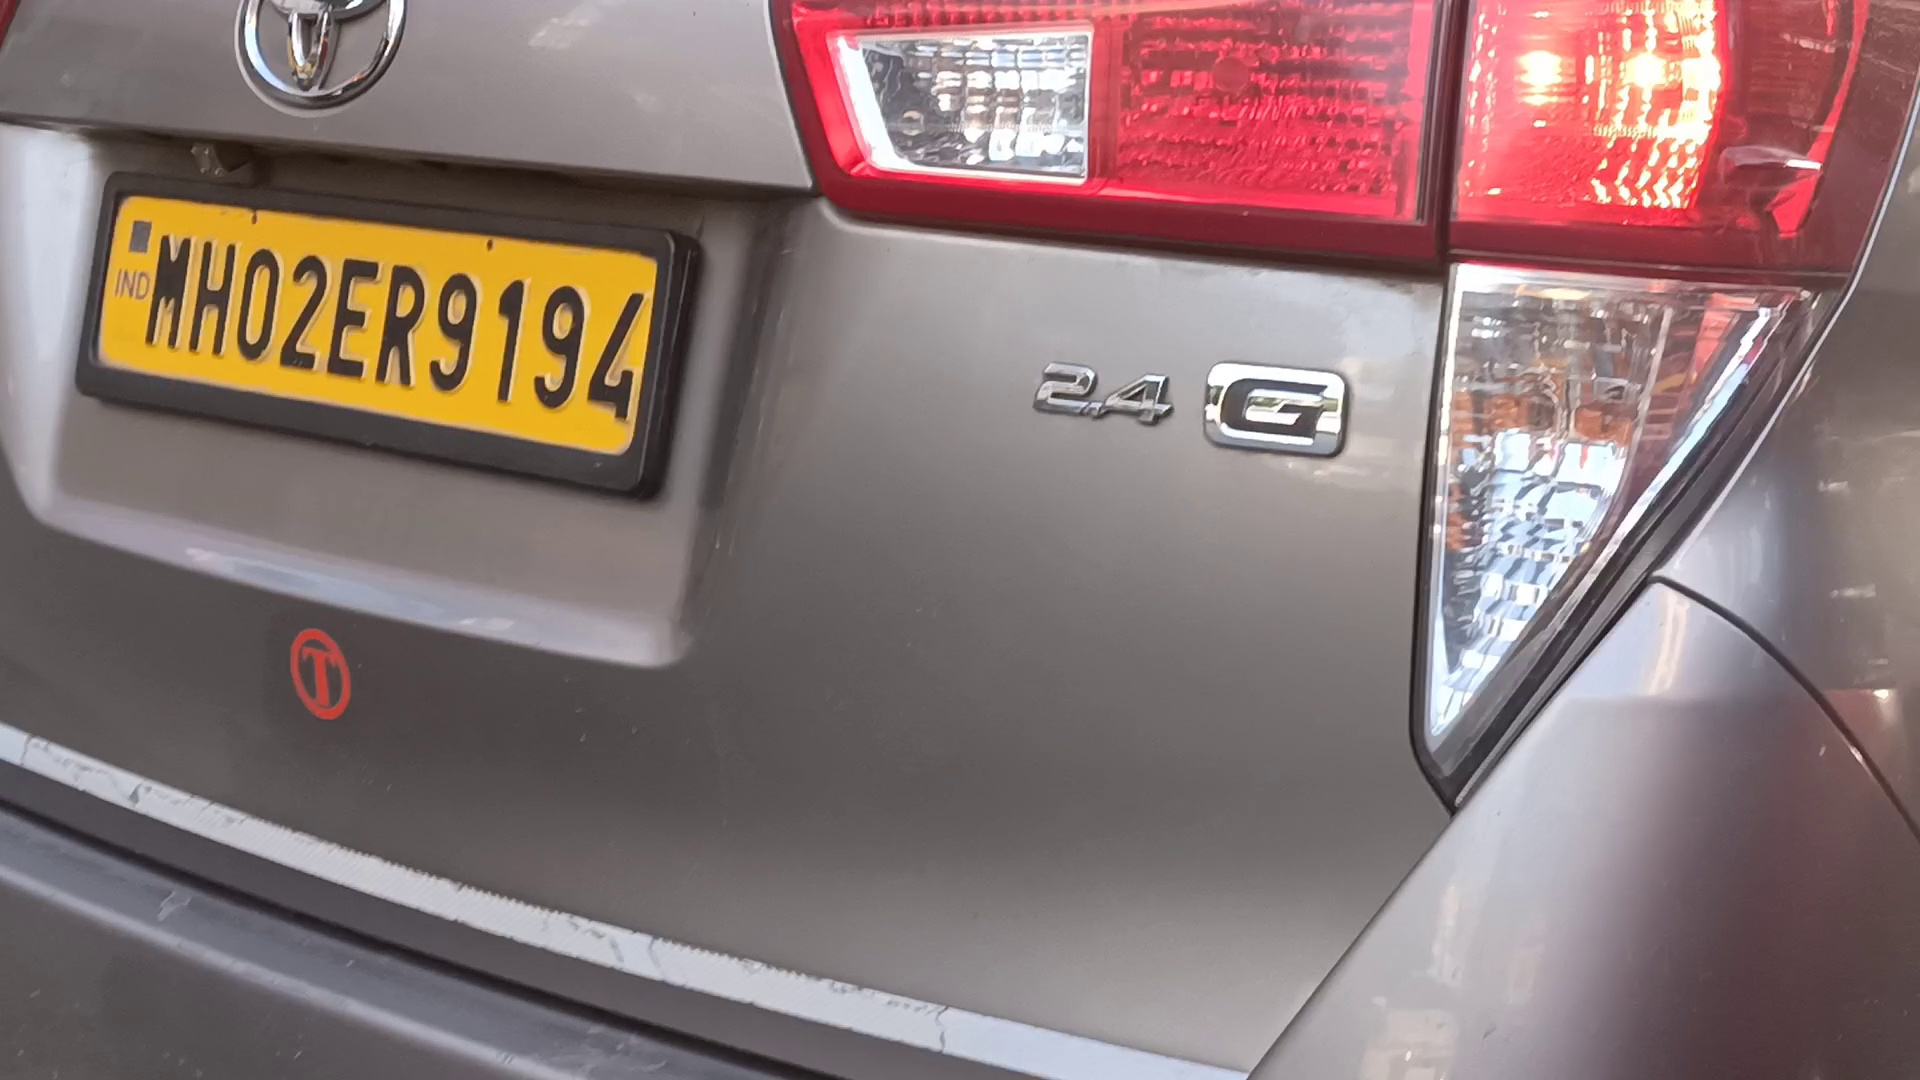MH02ER9194: (91, 192, 659, 455)
